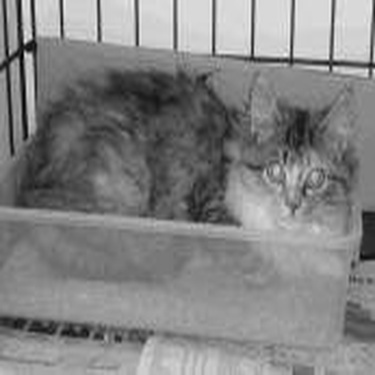cat: (6, 38, 345, 246)
